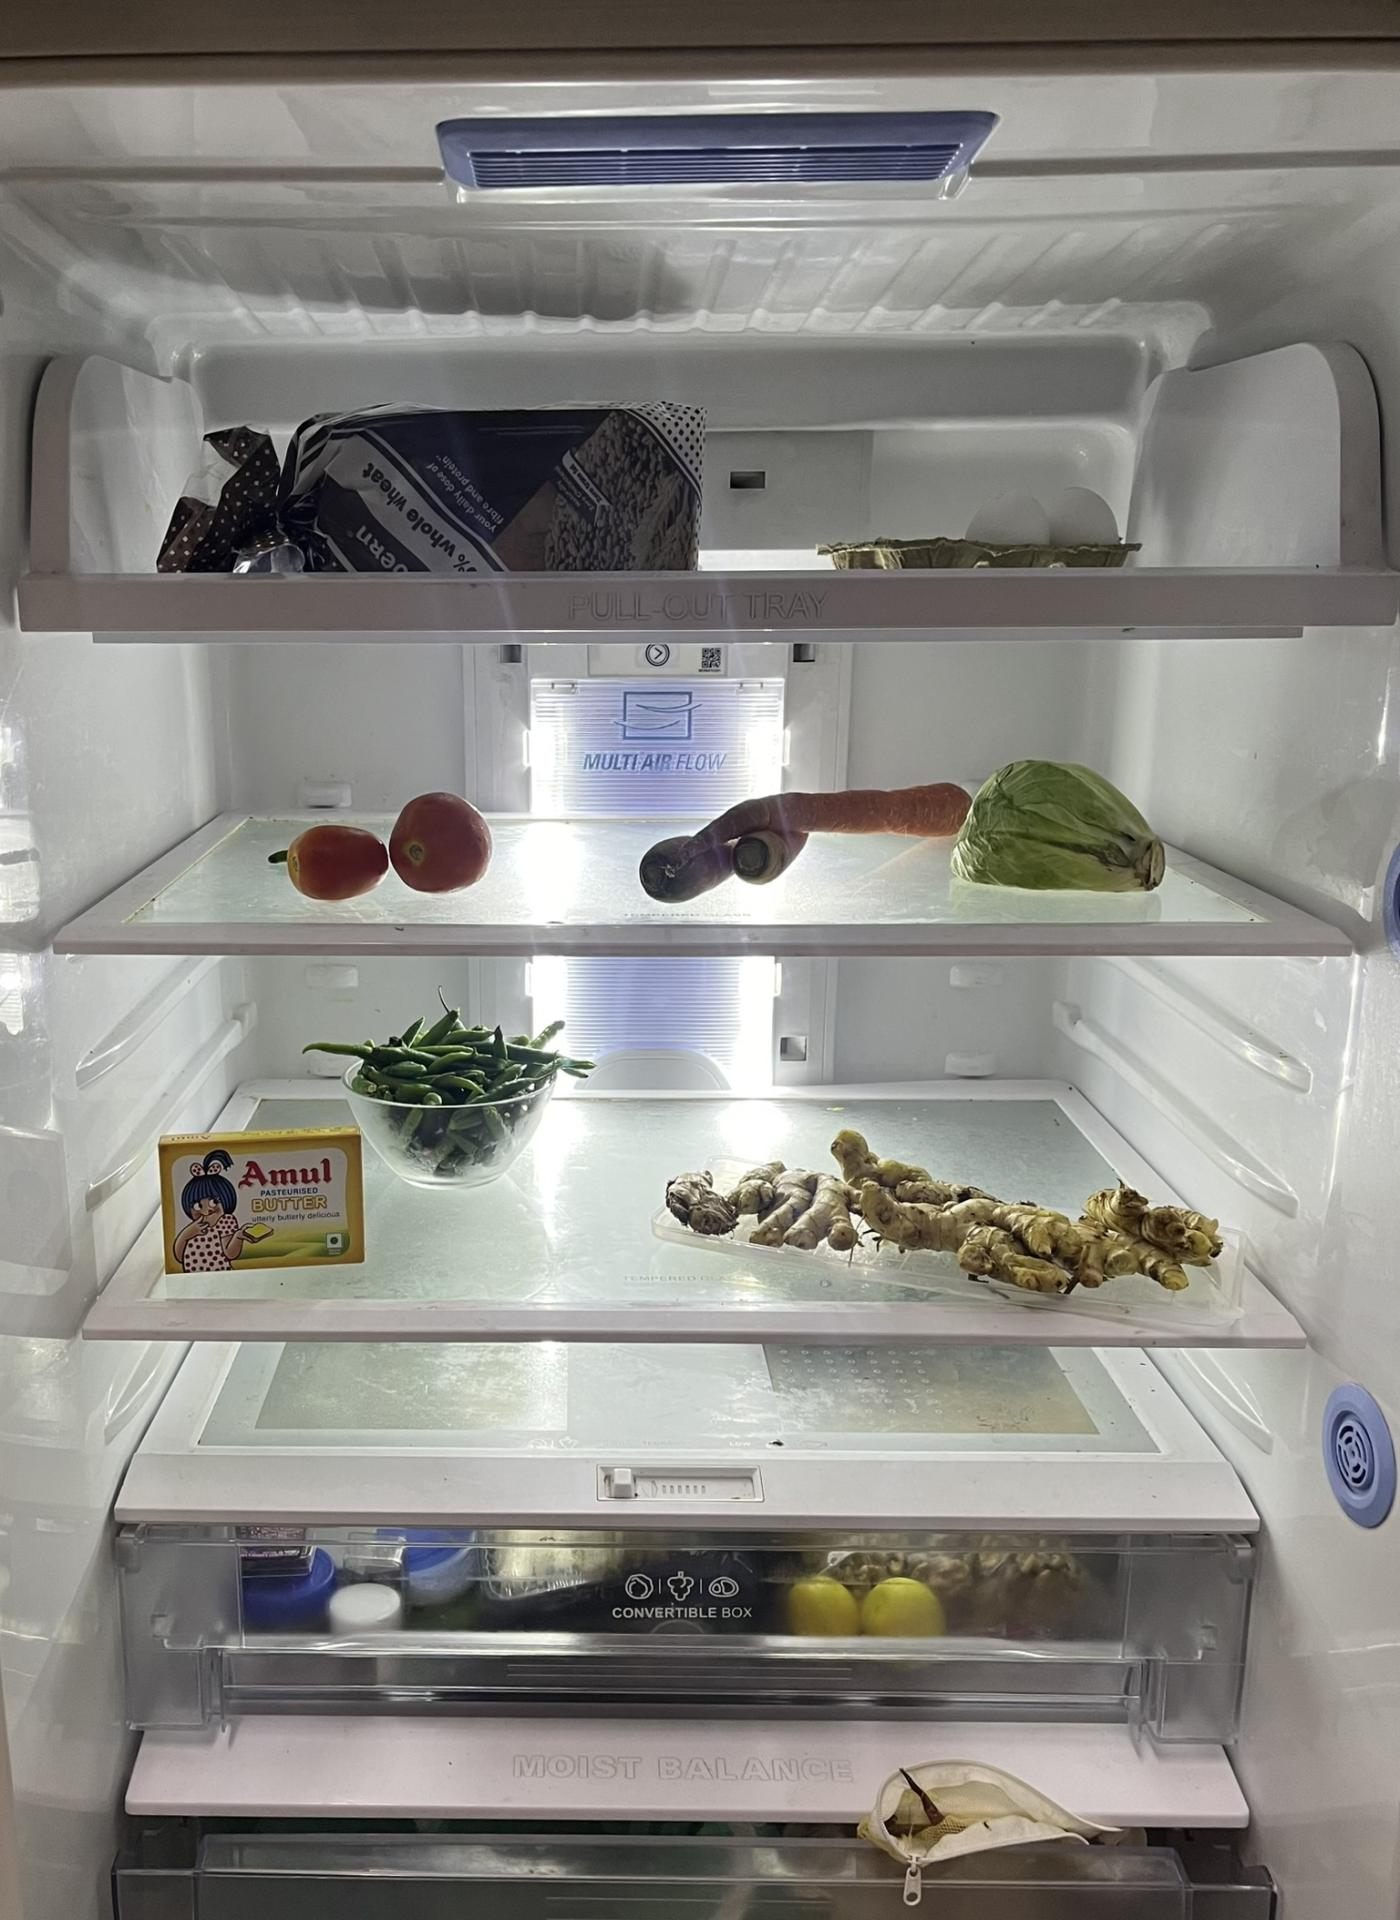bread: (158, 413, 708, 562)
butter: (161, 1125, 359, 1275)
cabbage: (950, 760, 1172, 897)
carrots: (649, 783, 987, 899)
chillies: (319, 1006, 589, 1178)
egg: (972, 481, 1118, 553)
ginger: (674, 1125, 1230, 1297)
tomato: (289, 795, 495, 897)
